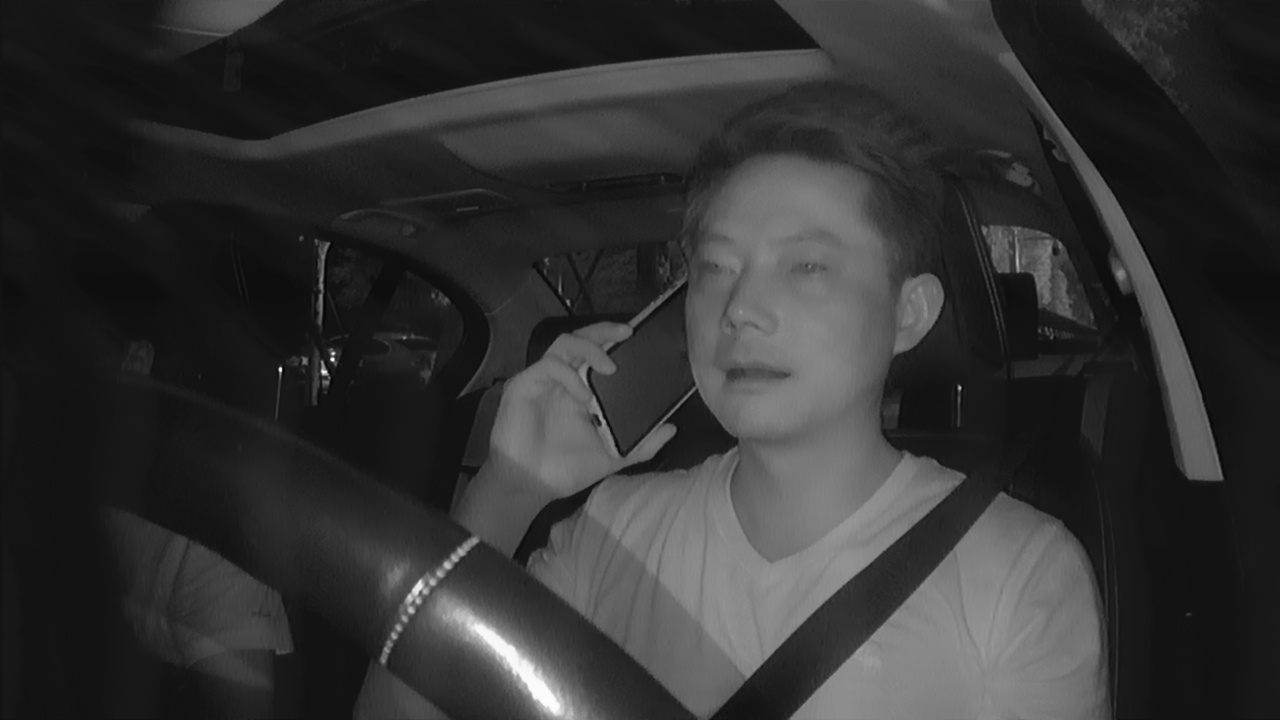hand: (497, 317, 617, 497)
